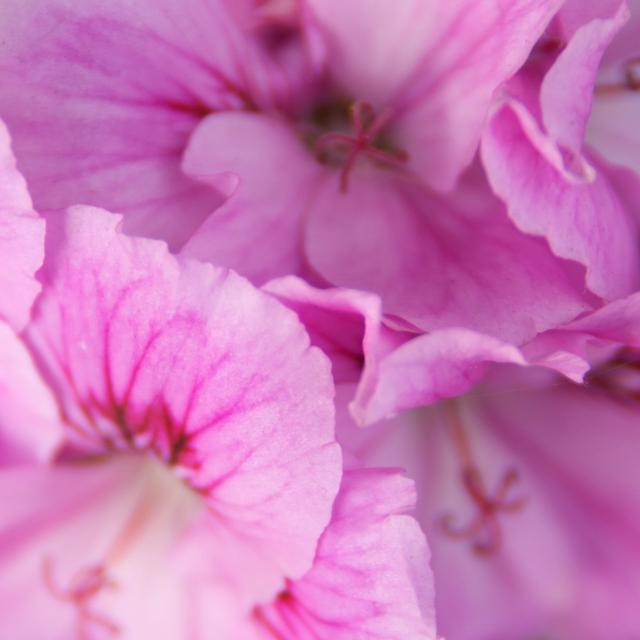Flower: (0, 8, 640, 630)
